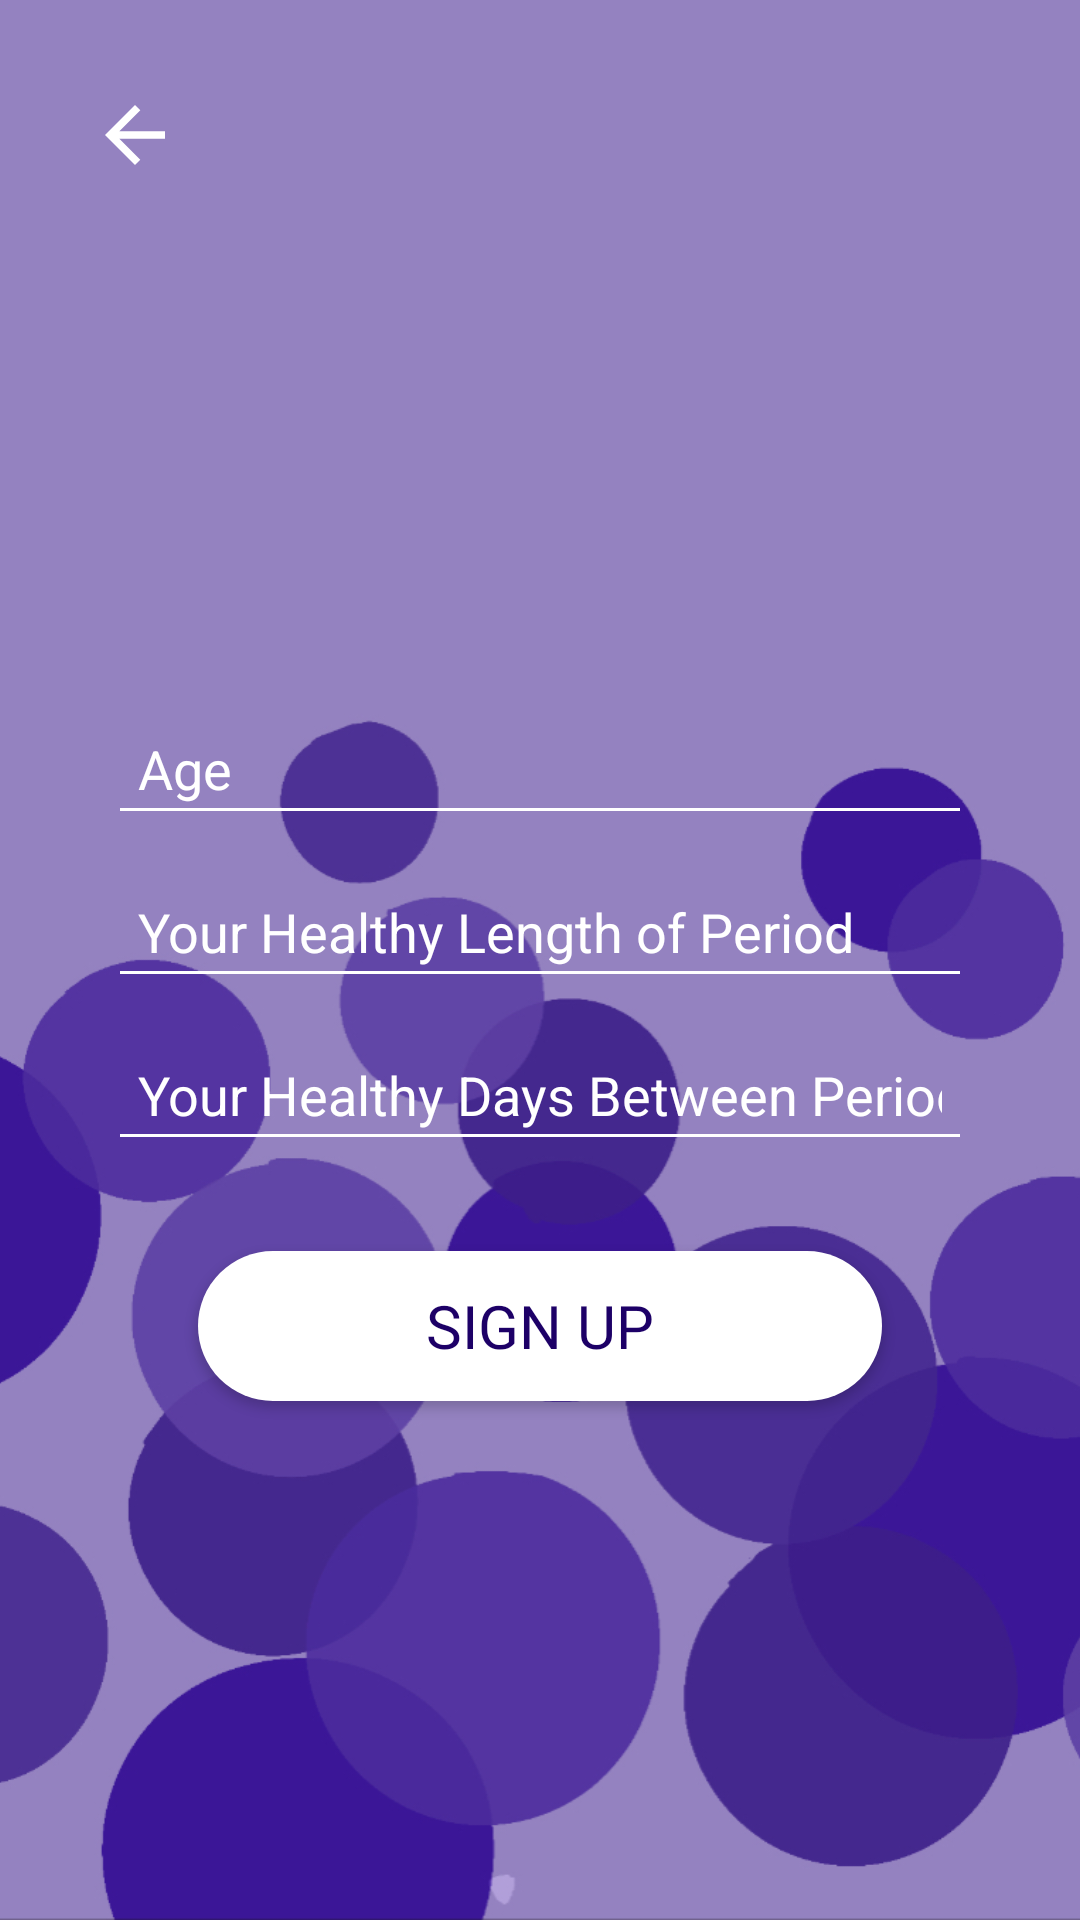

Icon click points for this 1080*1920 phone screenshot, format (x=x, y=y):
back: (x=135, y=135)
